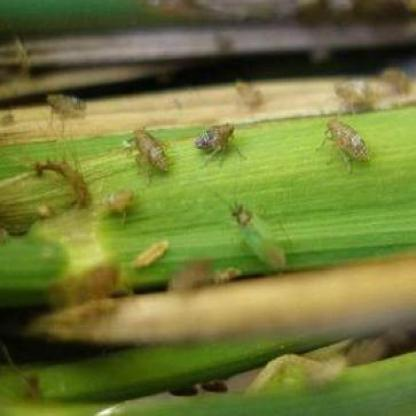brown-planthopper: (323, 118, 372, 166), (124, 129, 172, 174), (194, 118, 236, 158), (44, 94, 88, 118)
